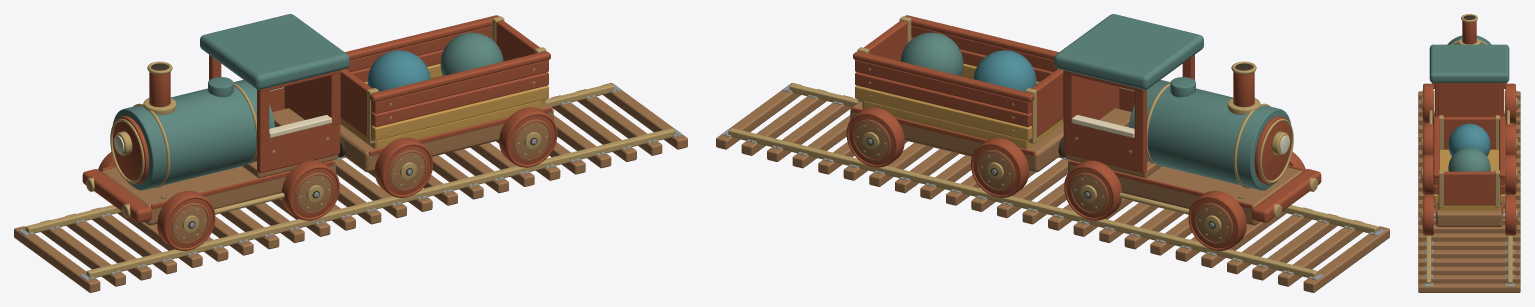
The model's file is wooden_train_v16.glb.
The picture shows the model from 3 angles, left to right: view 1: azimuth 30°, elevation 25°; view 2: azimuth 150°, elevation 25°; view 3: azimuth 270°, elevation 25°; orthographic projection. The views are drawn at different scales.
Parts seen in each view (by area): view 1: V15_RedPaint, V15_HoneyOak, V15_GreenPaint, V15_BrushedBrass, V15_OchrePaint, V15_BluePaint, V15_BearingSteel, V15_CreamPaint, V15_EngravedRecess; view 2: V15_RedPaint, V15_HoneyOak, V15_GreenPaint, V15_BrushedBrass, V15_OchrePaint, V15_BluePaint, V15_BearingSteel, V15_CreamPaint, V15_EngravedRecess; view 3: V15_RedPaint, V15_HoneyOak, V15_GreenPaint, V15_BrushedBrass, V15_BluePaint, V15_OchrePaint, V15_BearingSteel, V15_EngravedRecess.
Part boxes in pixels (left/top/right/bottom): V15_RedPaint: left=82, top=15, right=557, bottom=250; V15_HoneyOak: left=14, top=83, right=687, bottom=292; V15_GreenPaint: left=112, top=14, right=503, bottom=190; V15_BrushedBrass: left=23, top=16, right=678, bottom=278; V15_OchrePaint: left=340, top=63, right=548, bottom=148; V15_BluePaint: left=367, top=50, right=430, bottom=91; V15_BearingSteel: left=19, top=85, right=682, bottom=280; V15_CreamPaint: left=269, top=87, right=331, bottom=137; V15_EngravedRecess: left=24, top=63, right=678, bottom=278; V15_RedPaint: left=846, top=15, right=1321, bottom=250; V15_HoneyOak: left=716, top=83, right=1389, bottom=292; V15_GreenPaint: left=900, top=14, right=1291, bottom=190; V15_BrushedBrass: left=725, top=16, right=1380, bottom=278; V15_OchrePaint: left=855, top=63, right=1063, bottom=148; V15_BluePaint: left=973, top=50, right=1036, bottom=91; V15_BearingSteel: left=721, top=85, right=1384, bottom=280; V15_CreamPaint: left=1072, top=87, right=1134, bottom=137; V15_EngravedRecess: left=725, top=63, right=1380, bottom=278; V15_RedPaint: left=1422, top=21, right=1516, bottom=235; V15_HoneyOak: left=1418, top=91, right=1520, bottom=292; V15_GreenPaint: left=1429, top=35, right=1509, bottom=171; V15_BrushedBrass: left=1421, top=14, right=1517, bottom=284; V15_BluePaint: left=1448, top=123, right=1490, bottom=156; V15_OchrePaint: left=1433, top=149, right=1505, bottom=210; V15_BearingSteel: left=1420, top=101, right=1518, bottom=286; V15_EngravedRecess: left=1421, top=15, right=1517, bottom=217.
Size of the model in its own units: 4.43 by 1.23 by 0.98.
